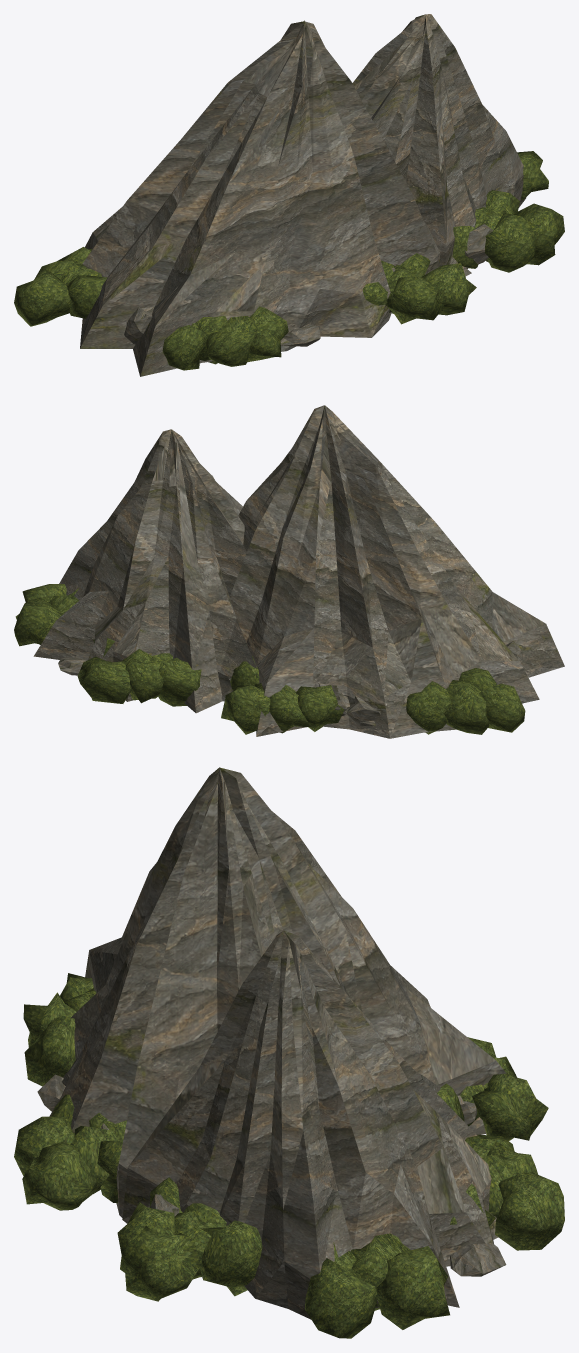
The model's file is mountain_ridge_a.gltf.
3 views of the same model, one above another, from view 1: azimuth 30°, elevation 25°; view 2: azimuth 150°, elevation 25°; view 3: azimuth 270°, elevation 25° (orthographic). The views are drawn at different scales.
Visible parts, largest first — view 1: mountain_ridge_a_game; view 2: mountain_ridge_a_game; view 3: mountain_ridge_a_game.
Boxes of the visible parts, x1=… form: mountain_ridge_a_game: x1=14, y1=14, x2=564, y2=376; mountain_ridge_a_game: x1=14, y1=405, x2=564, y2=738; mountain_ridge_a_game: x1=14, y1=767, x2=564, y2=1338.
Bounding box in the file's own units: 1.63 × 0.8101 × 1.03.
2 materials, 2 textured.
